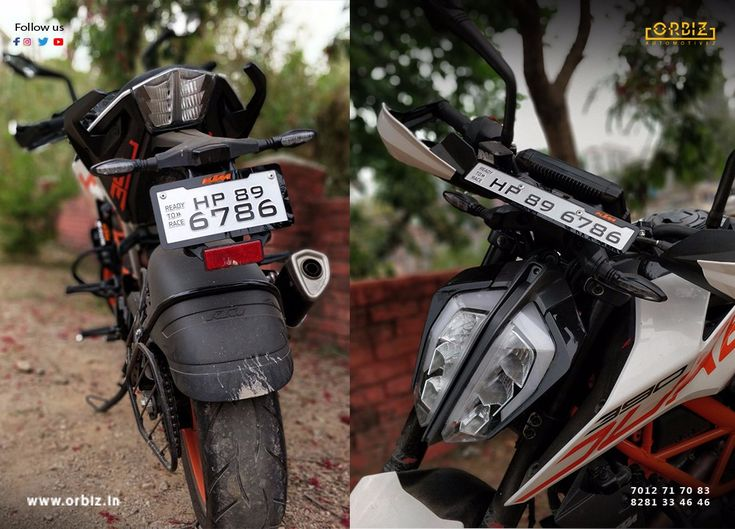number_plate: (147, 181, 286, 234)
